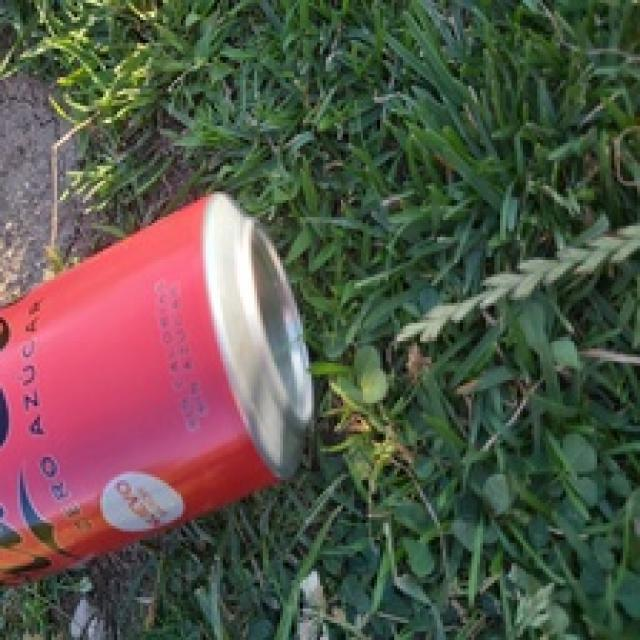recyclable: (0, 189, 318, 596)
